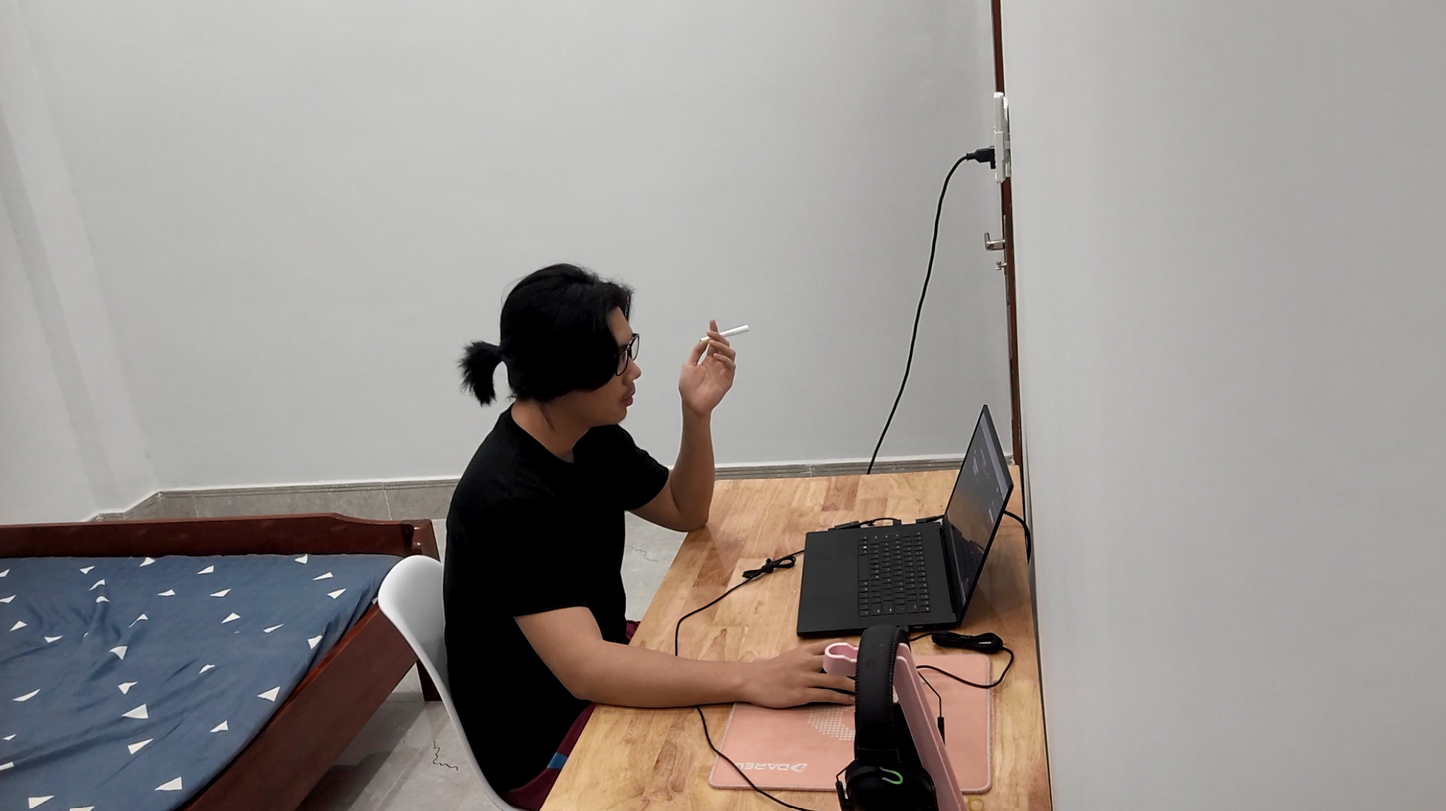cigarette: (702, 324, 761, 341)
person: (427, 238, 717, 811)
